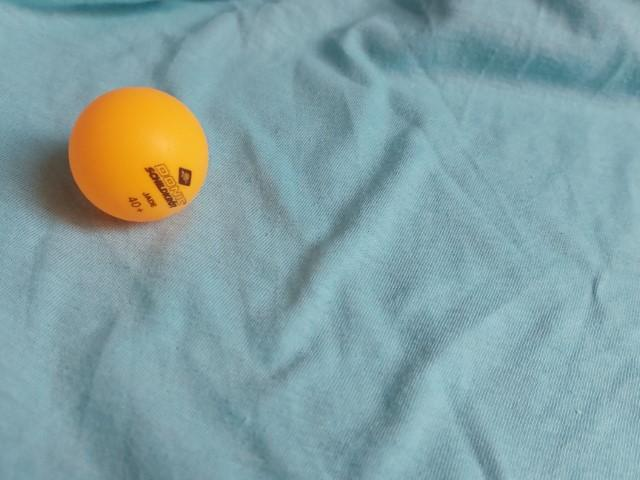oball: (64, 82, 214, 227)
